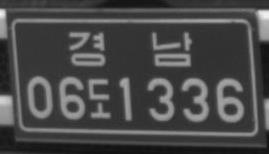0: (25, 74, 54, 120)
1: (114, 76, 138, 121)
3: (145, 76, 176, 123), (181, 76, 210, 123)
6: (215, 76, 245, 125), (57, 74, 87, 122)
경남_D: (68, 30, 194, 69)
도: (87, 77, 112, 120)
